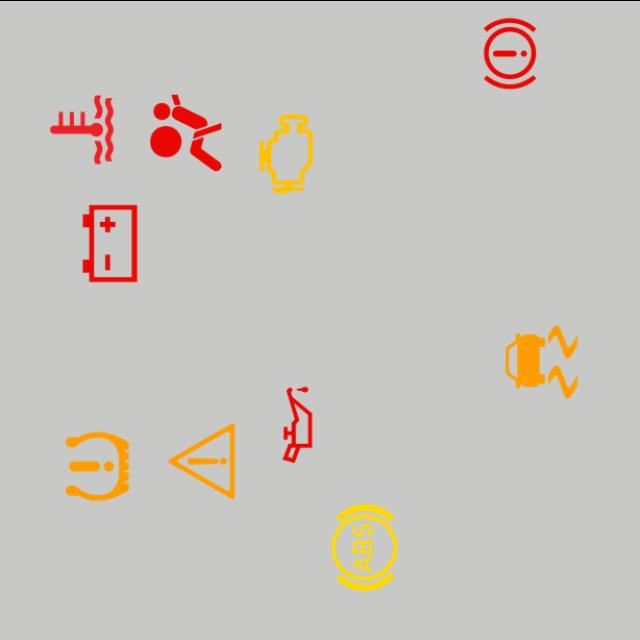Anti Lock Braking System: (317, 499, 412, 594)
Braking System Issue: (462, 5, 558, 100)
Charging System Issue: (62, 195, 158, 290)
Check Engine: (238, 105, 334, 200)
Electronic Stability Problem -ESP-: (494, 314, 589, 408)
Engine Overheating Warning Light: (34, 81, 130, 176)
Low Engine Oil Warning Light: (250, 376, 345, 471)
Low Tire Pressure Warning Light: (50, 418, 145, 513)
Master warning light: (154, 412, 249, 508)
SRS-Airbag: (138, 84, 234, 180)
